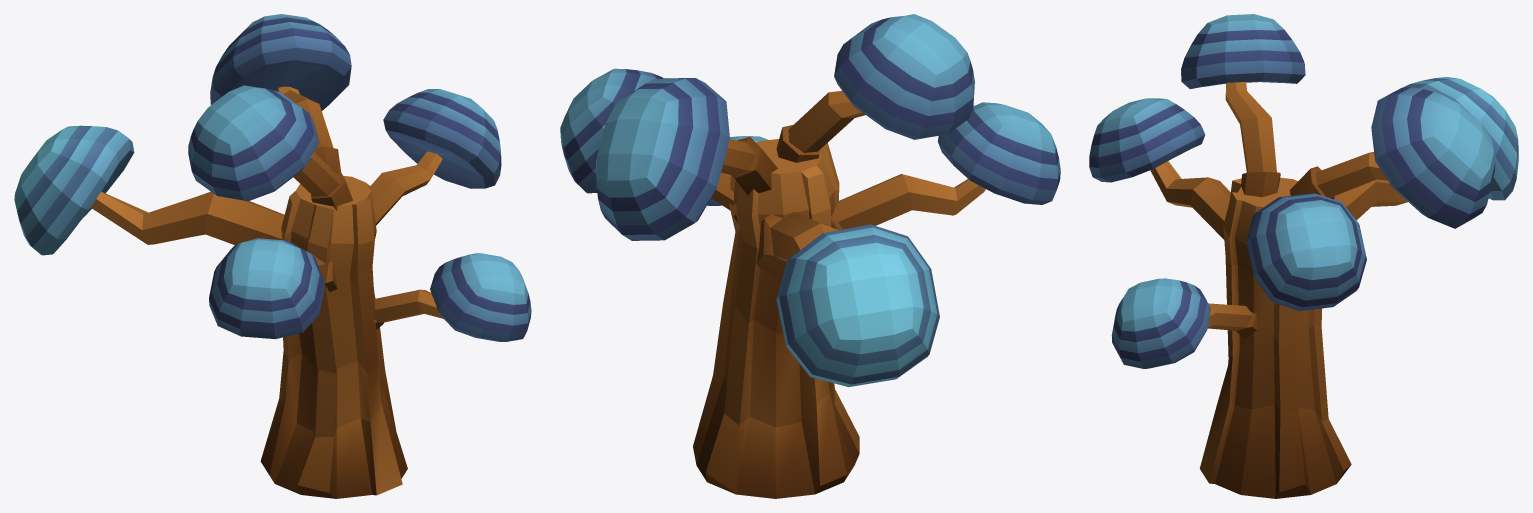
File: Tree_Small_G.fbx
3 renders of one model, left to right at view 1: azimuth 30°, elevation 25°; view 2: azimuth 150°, elevation 25°; view 3: azimuth 270°, elevation 25°, orthographic. The views are drawn at different scales.
Visible parts, largest first — view 1: Tree_Small_G; view 2: Tree_Small_G; view 3: Tree_Small_G.
Part boxes in pixels (x1=…): Tree_Small_G: x1=14, y1=14, x2=531, y2=498; Tree_Small_G: x1=560, y1=14, x2=1060, y2=498; Tree_Small_G: x1=1089, y1=14, x2=1518, y2=498.
Size of the model in its own units: 168 by 166 by 160.
